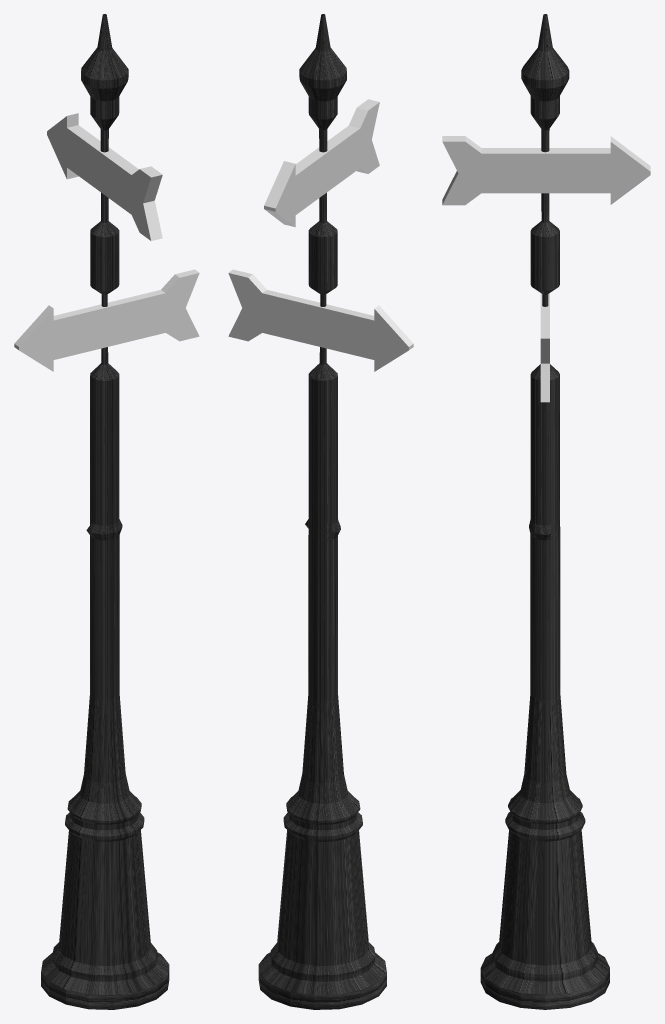
File: Sign_Arrow_Left.fbx
3 views of the same model, side by side, from view 1: azimuth 30°, elevation 25°; view 2: azimuth 150°, elevation 25°; view 3: azimuth 270°, elevation 25° (orthographic).
Visible parts, largest first — view 1: SignPost_Direction_Left_LOD0; view 2: SignPost_Direction_Left_LOD0; view 3: SignPost_Direction_Left_LOD0.
Boxes of the visible parts, box(x1,y1,x2,y2) form: SignPost_Direction_Left_LOD0: box(14, 14, 199, 1009); SignPost_Direction_Left_LOD0: box(228, 14, 413, 1009); SignPost_Direction_Left_LOD0: box(442, 14, 650, 1009).
Size of what is drawn, in the model's own units: 322 by 1651 by 322.
